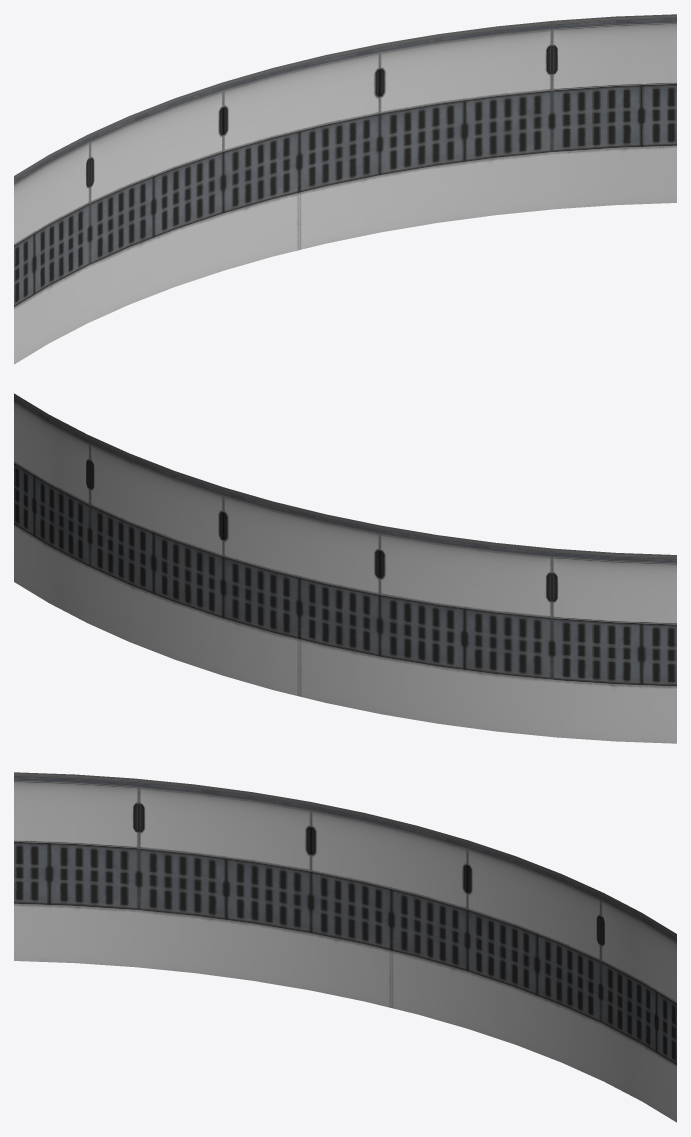
Rendered from scifi_glass.fbx.
The picture shows the model from 3 angles, top to bottom: view 1: azimuth 30°, elevation 25°; view 2: azimuth 150°, elevation 25°; view 3: azimuth 330°, elevation 25°; orthographic projection.
Parts seen in each view (by area): view 1: scifi_glass; view 2: scifi_glass; view 3: scifi_glass.
Boxes of the visible parts, bbox=[...] form: scifi_glass: bbox=[14, 14, 676, 364]; scifi_glass: bbox=[14, 393, 676, 743]; scifi_glass: bbox=[14, 772, 676, 1122].
Bounding box in the file's own units: 556 × 151 × 66.84.
